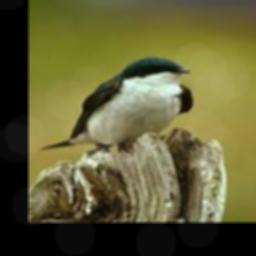Swallow: (41, 57, 192, 151)
